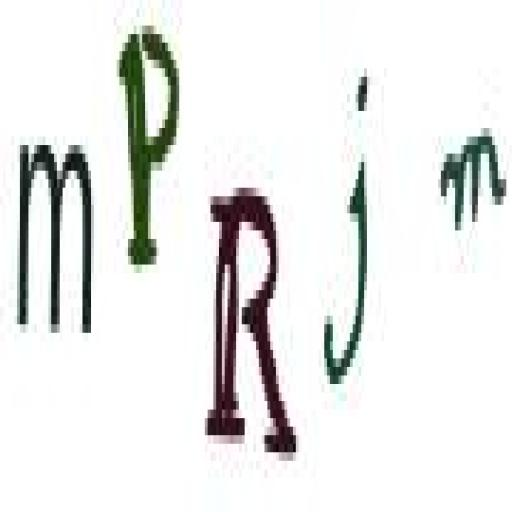R: (204, 169, 301, 479)
j: (320, 57, 384, 400)
m: (15, 126, 97, 352), (434, 122, 510, 246)
p: (115, 14, 182, 271)
